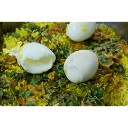briyani: (6, 26, 128, 106)
